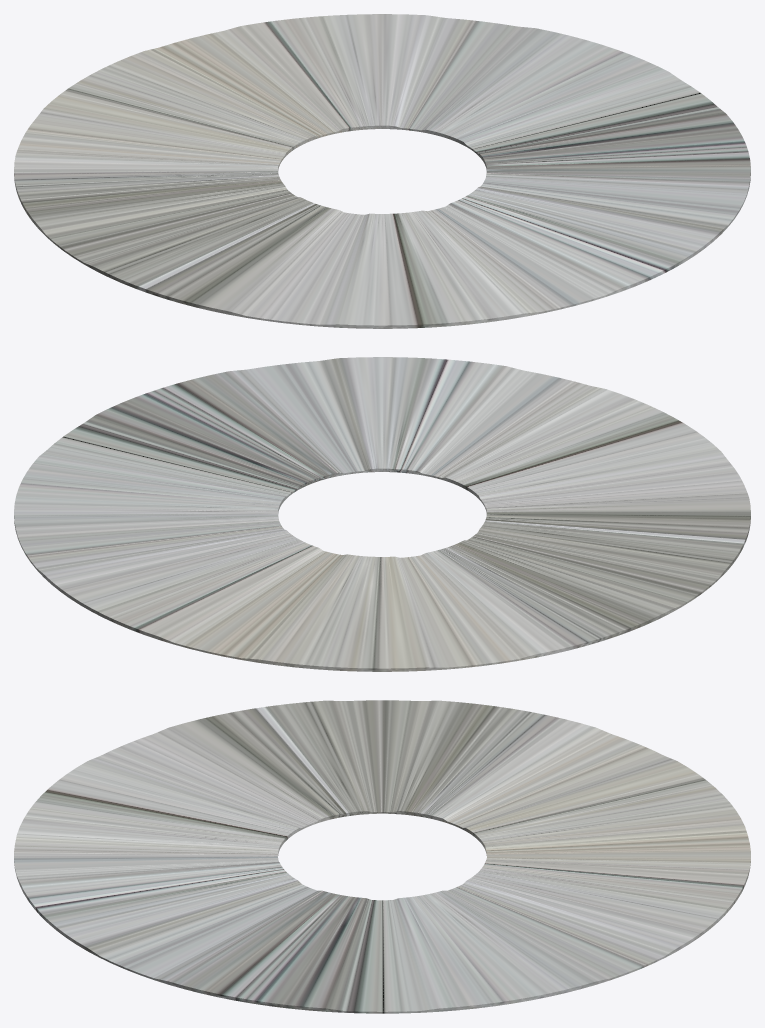
The picture shows the model from 3 angles, top to bottom: view 1: azimuth 30°, elevation 25°; view 2: azimuth 150°, elevation 25°; view 3: azimuth 270°, elevation 25°; orthographic projection.
Parts seen in each view (by area): view 1: circle_03; view 2: circle_03; view 3: circle_03.
Boxes of the visible parts, x1=… form: circle_03: x1=14, y1=14, x2=750, y2=328; circle_03: x1=14, y1=357, x2=750, y2=671; circle_03: x1=14, y1=700, x2=750, y2=1013.
Bounding box in the file's own units: 12000 × 60.2 × 11996.
